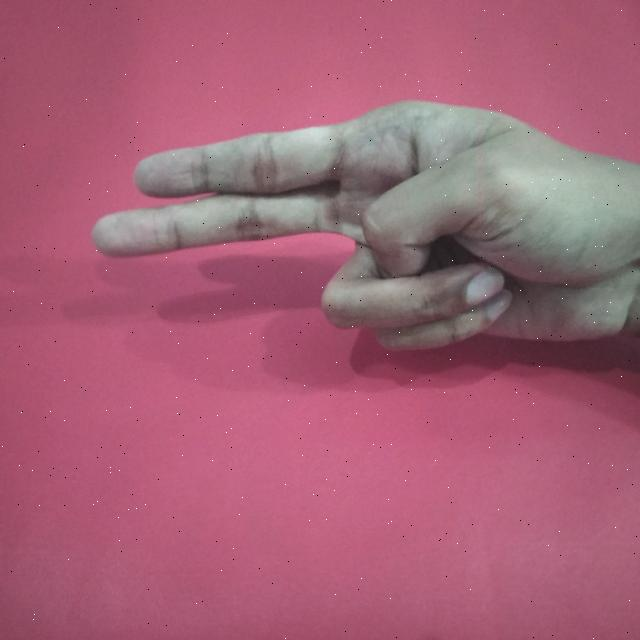H: (82, 93, 640, 366)
